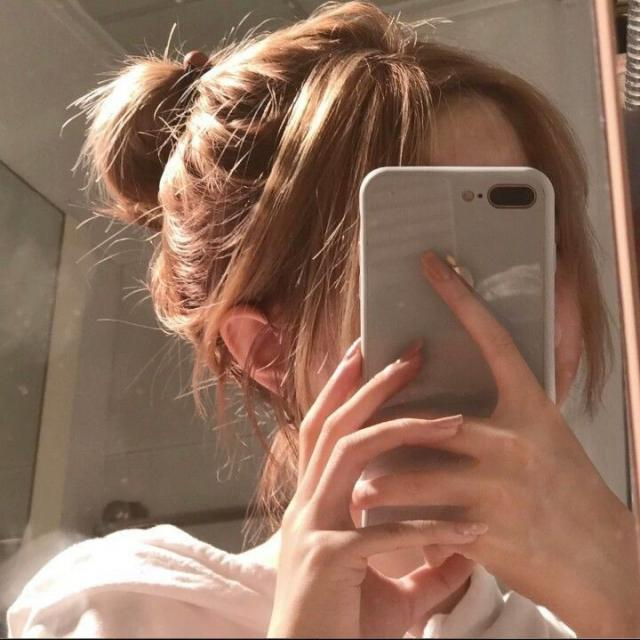phone: (359, 167, 556, 548)
